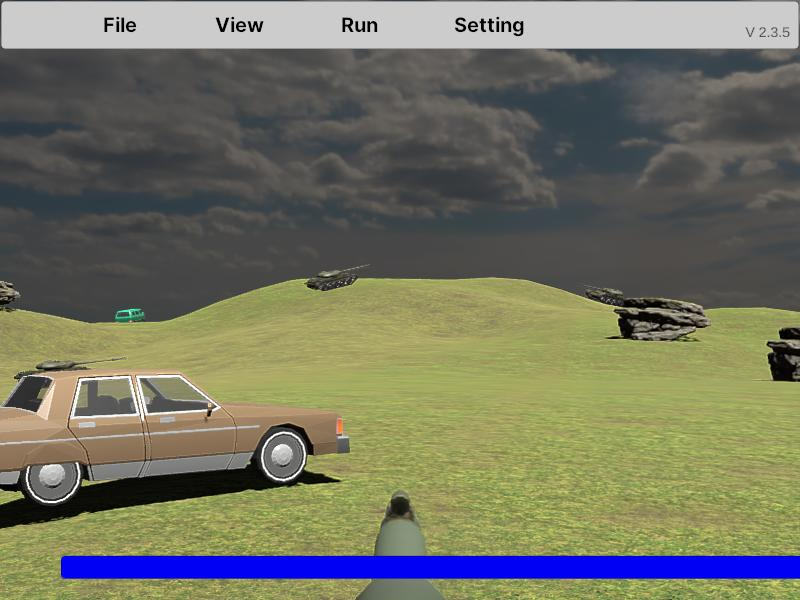Tank: (304, 264, 370, 291), (0, 276, 20, 311), (0, 277, 20, 311)
car: (0, 365, 352, 516)
